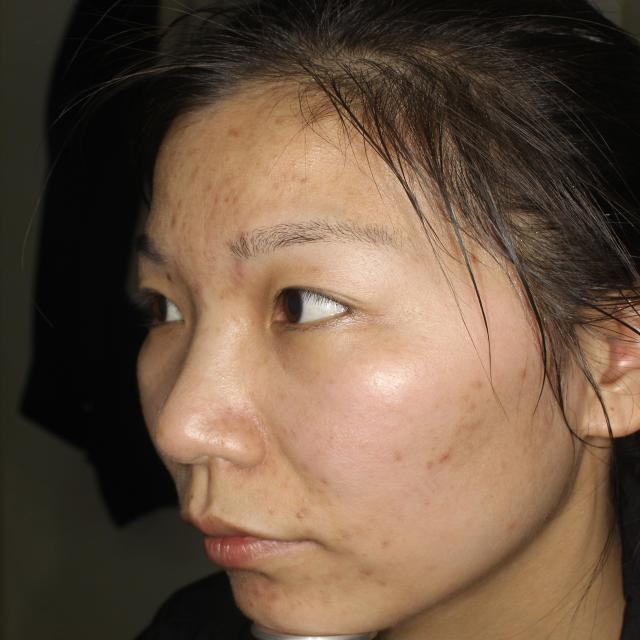acne: (246, 581, 289, 611), (221, 257, 251, 289), (429, 445, 459, 468)
